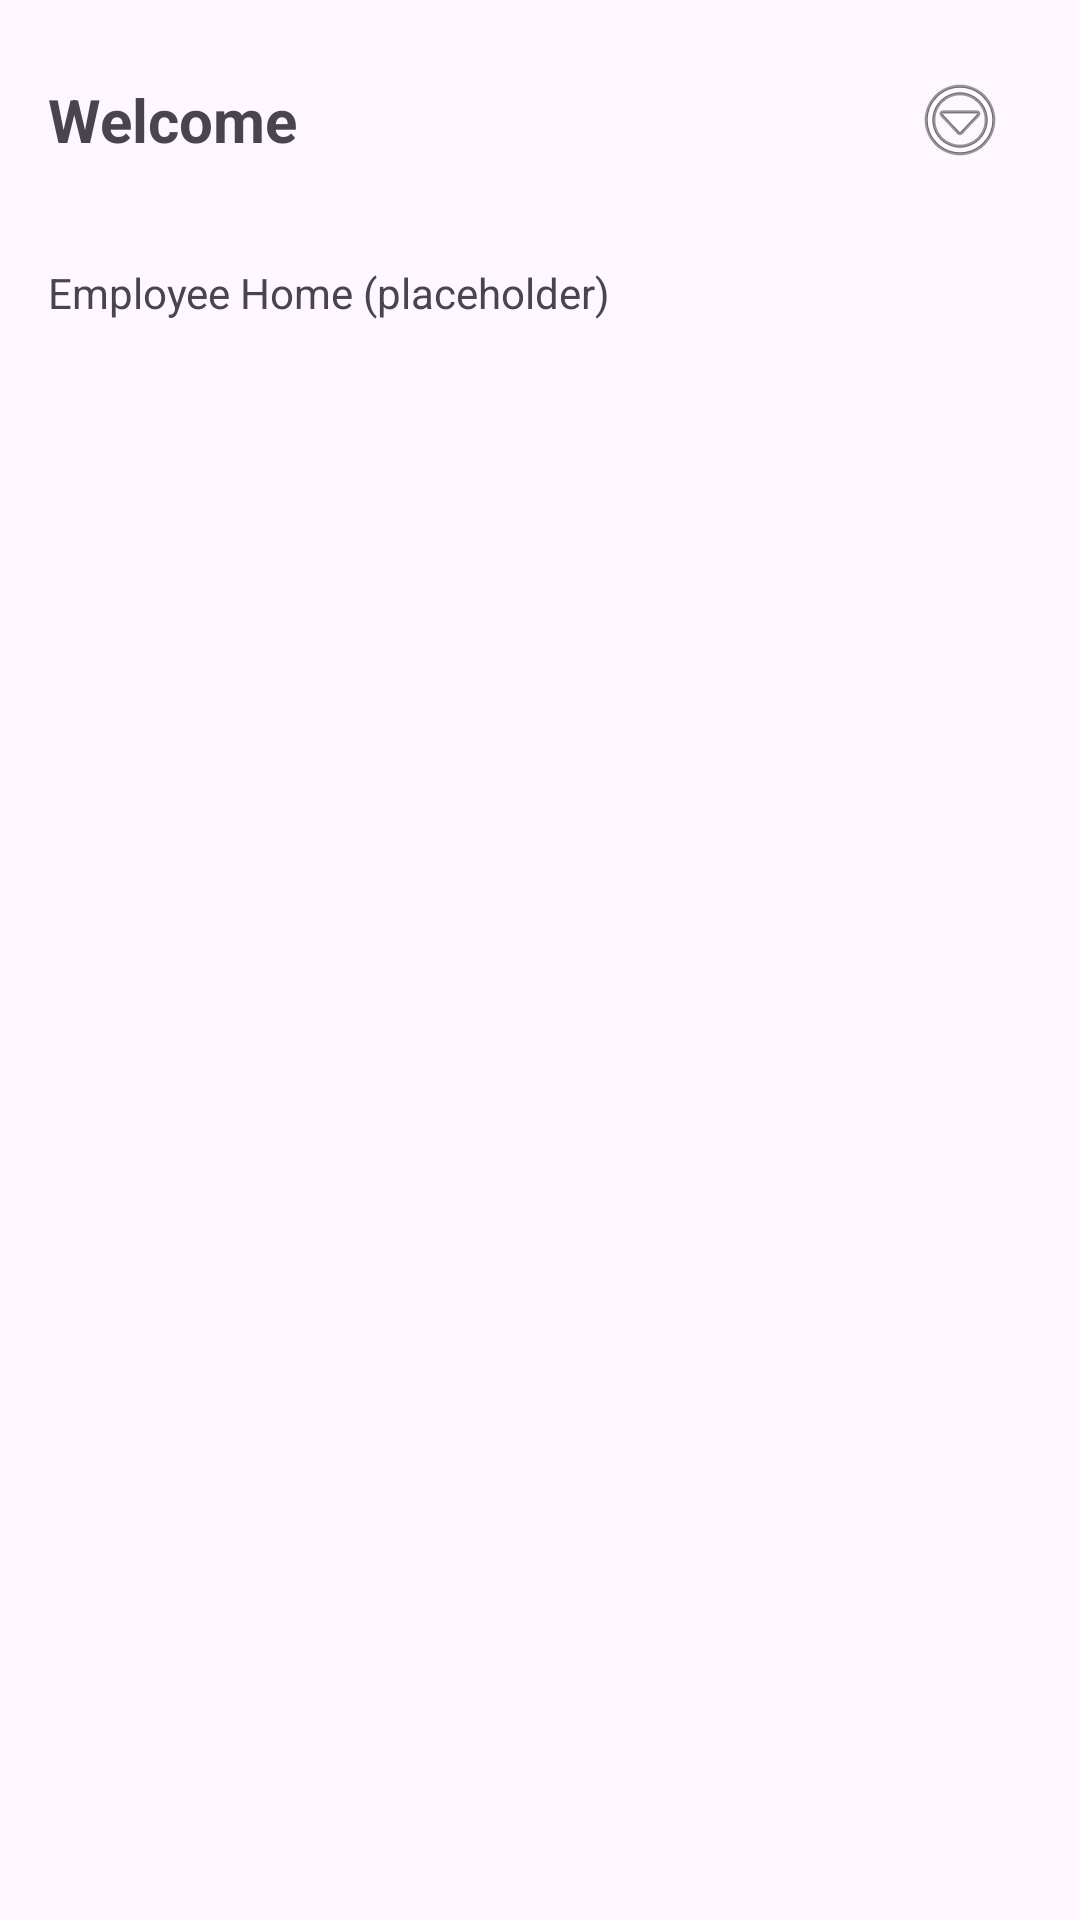

Point at icon controls on the screen. Image size 1080 x 1920, points as point (x, y).
Menu: point (960, 120)
